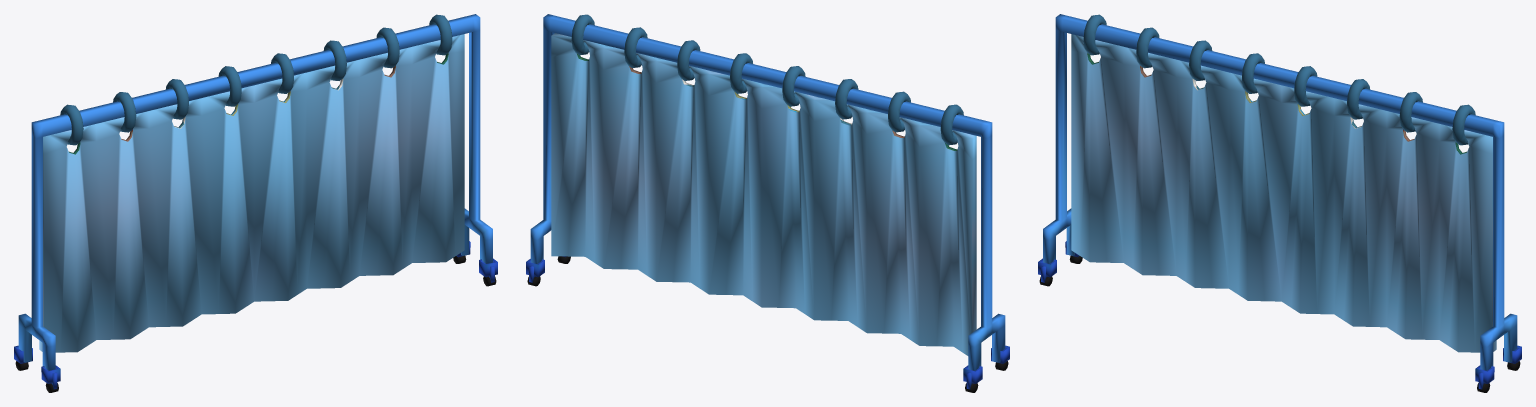
The model's file is CortinaHospitalar.fbx.
3 renders of one model, left to right at view 1: azimuth 30°, elevation 25°; view 2: azimuth 150°, elevation 25°; view 3: azimuth 330°, elevation 25°, orthographic.
Visible parts, largest first — view 1: CortinaHospitalar; view 2: CortinaHospitalar; view 3: CortinaHospitalar.
Part boxes in pixels (x1=…): CortinaHospitalar: x1=14, y1=14, x2=497, y2=392; CortinaHospitalar: x1=526, y1=14, x2=1009, y2=392; CortinaHospitalar: x1=1038, y1=14, x2=1521, y2=392.
Size of the model in its own units: 288 by 164 by 40.64.
1 material, 1 textured.
